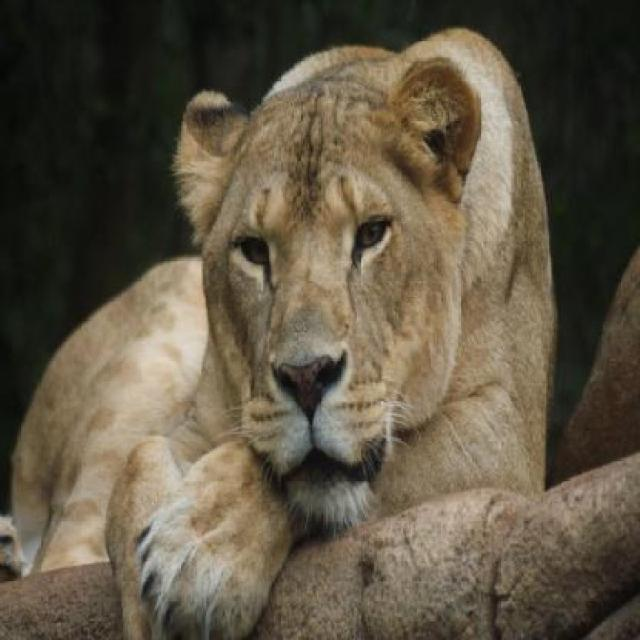Lion: (2, 17, 564, 638)
